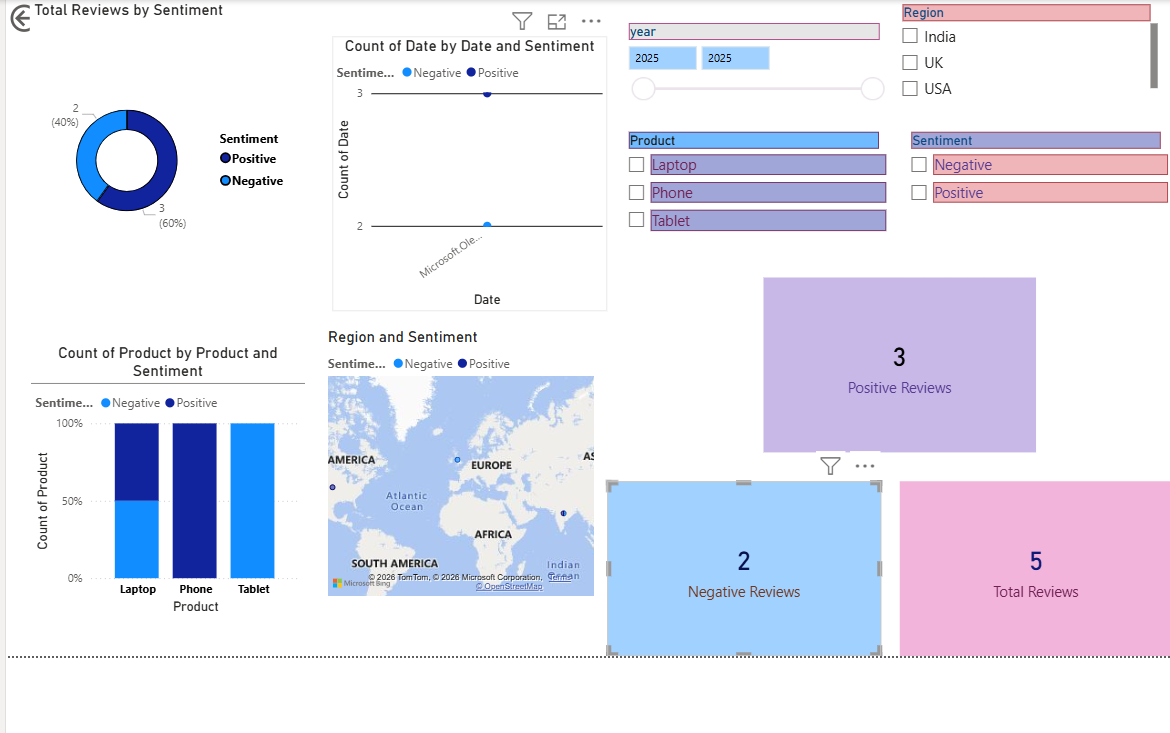

What the dashboard file says about the page in this screenshot:
{"tool":"powerbi","page":{"name":"Page 1","canvas":[1280,720],"ordinal":0},"visuals":[{"type":"actionButton","box":[0,0,100,40],"z":2},{"type":"donutChart","fields":{"Category":["FactReviews.Sentiment"],"Y":["FactReviews.Total Reviews"]},"box":[26.1,0,300.5,333.4],"z":3},{"type":"hundredPercentStackedColumnChart","fields":{"Category":["FactReviews.Product"],"Series":["FactReviews.Sentiment"],"Y":["CountNonNull(FactReviews.Product)"]},"box":[27.4,377.4,300.5,300.5],"z":4},{"type":"lineChart","fields":{"Category":["FactReviews.Date"],"Series":["FactReviews.Sentiment"],"Y":["CountNonNull(FactReviews.Date)"]},"box":[358.1,39.8,301.9,301.9],"z":5},{"type":"map","fields":{"Category":["FactReviews.Region"],"Series":["FactReviews.Sentiment"]},"box":[348.5,359.5,301.9,300.5],"z":6},{"type":"slicer","fields":{"Values":["FactReviews.year"]},"box":[671,21,301,301],"z":7},{"type":"slicer","fields":{"Values":["FactReviews.Product"]},"box":[671,140,300.5,300.5],"z":8},{"type":"slicer","fields":{"Values":["FactReviews.Region"]},"box":[971.5,0,297.8,113.9],"z":9},{"type":"slicer","fields":{"Values":["FactReviews.Sentiment"]},"box":[981.1,140,299.1,208.6],"z":10},{"type":"card","fields":{"Values":["FactReviews.Negative Reviews"]},"box":[660,528.3,300.5,192.1],"z":11},{"type":"card","fields":{"Values":["FactReviews.Positive Reviews"]},"box":[831.6,304.6,299.1,192.1],"z":12},{"type":"card","fields":{"Values":["FactReviews.Total Reviews"]},"box":[981.1,528.3,299.1,192.1],"z":13}]}

Visuals, with their boxes on the page's 1280x720 design canvas (x1, y1, x2, y2). These are canvas units, not pixel positions in the 1170x733 screenshot, which may show the page scaled, cropped or inside an application window:
actionButton: [x1=0, y1=0, x2=100, y2=40]
donutChart - FactReviews.Sentiment x FactReviews.Total Reviews: [x1=26, y1=0, x2=327, y2=333]
hundredPercentStackedColumnChart - FactReviews.Product x FactReviews.Sentiment: [x1=27, y1=377, x2=328, y2=678]
lineChart - FactReviews.Date x FactReviews.Sentiment: [x1=358, y1=40, x2=660, y2=342]
map - FactReviews.Region x FactReviews.Sentiment: [x1=348, y1=360, x2=650, y2=660]
slicer - FactReviews.year: [x1=671, y1=21, x2=972, y2=322]
slicer - FactReviews.Product: [x1=671, y1=140, x2=972, y2=440]
slicer - FactReviews.Region: [x1=972, y1=0, x2=1269, y2=114]
slicer - FactReviews.Sentiment: [x1=981, y1=140, x2=1280, y2=349]
card - FactReviews.Negative Reviews: [x1=660, y1=528, x2=960, y2=720]
card - FactReviews.Positive Reviews: [x1=832, y1=305, x2=1131, y2=497]
card - FactReviews.Total Reviews: [x1=981, y1=528, x2=1280, y2=720]
